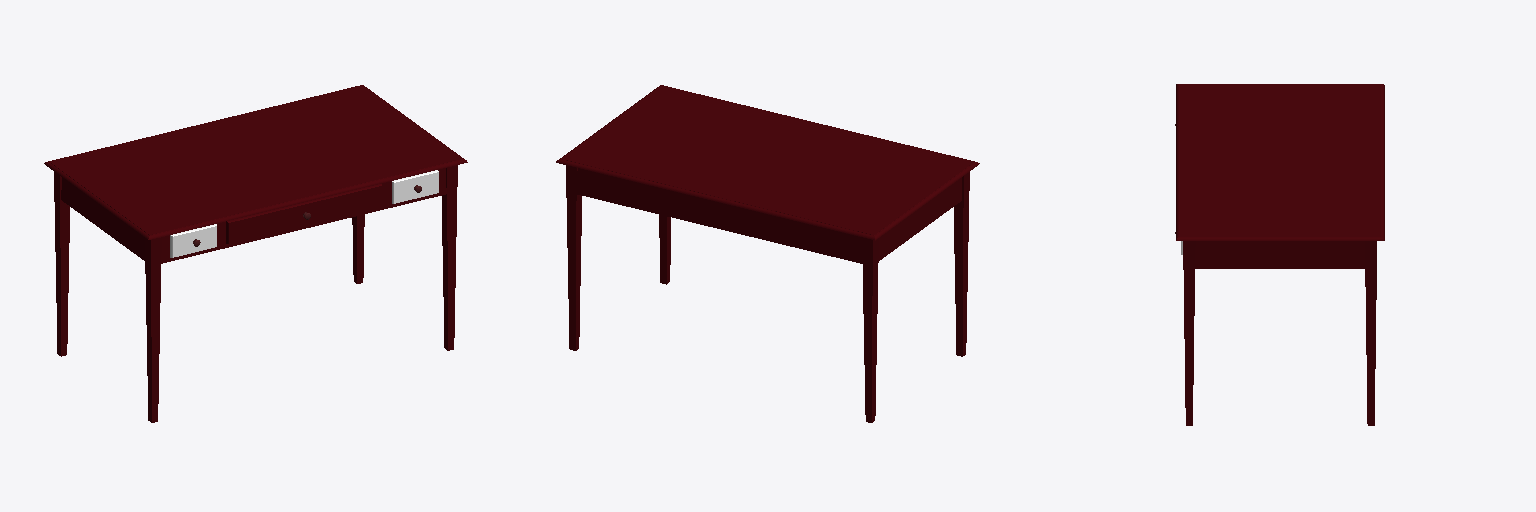
3 views of the same model, side by side, from view 1: azimuth 30°, elevation 25°; view 2: azimuth 150°, elevation 25°; view 3: azimuth 270°, elevation 25° (orthographic).
Visible parts, largest first — view 1: model_normalized; view 2: model_normalized; view 3: model_normalized.
Boxes of the visible parts, box(x1,y1,x2,y2) form: model_normalized: box(44, 85, 467, 422); model_normalized: box(556, 85, 979, 422); model_normalized: box(1175, 84, 1384, 425).
Size of the model in its own units: 0.7784 by 0.4464 by 0.4414.